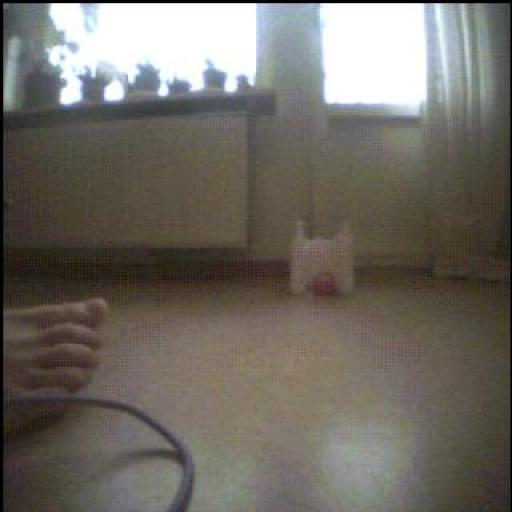Basket: (313, 273, 337, 297)
